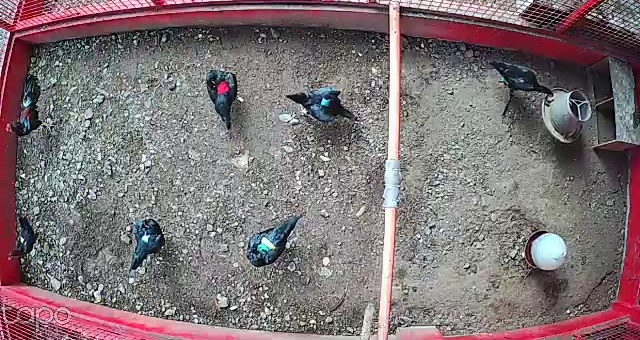Chicken: (243, 211, 306, 267), (283, 87, 360, 129), (488, 59, 557, 101), (205, 69, 244, 132), (128, 220, 170, 273), (5, 215, 41, 262)
Rooster: (4, 72, 58, 144)
Saddle_Color_Blue: (321, 97, 331, 108)
Saddle_Color_Red: (217, 80, 230, 93)
Saddle_Color_Yellow: (18, 236, 28, 244)
Saddle_Color_YellowGreen: (255, 235, 274, 253)
